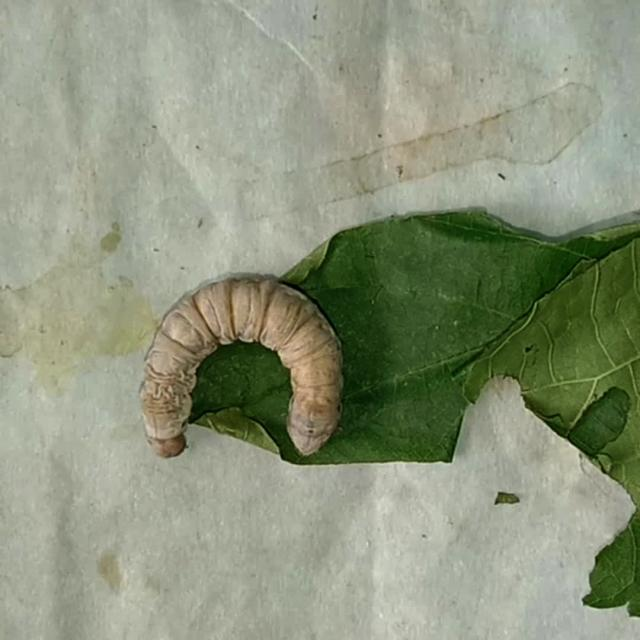Grasserie: (123, 249, 367, 470)
